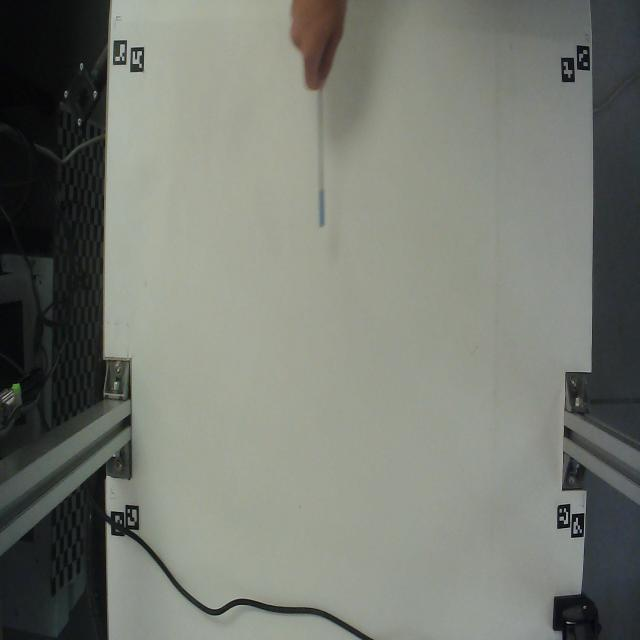NoPres: (308, 86, 334, 242)
